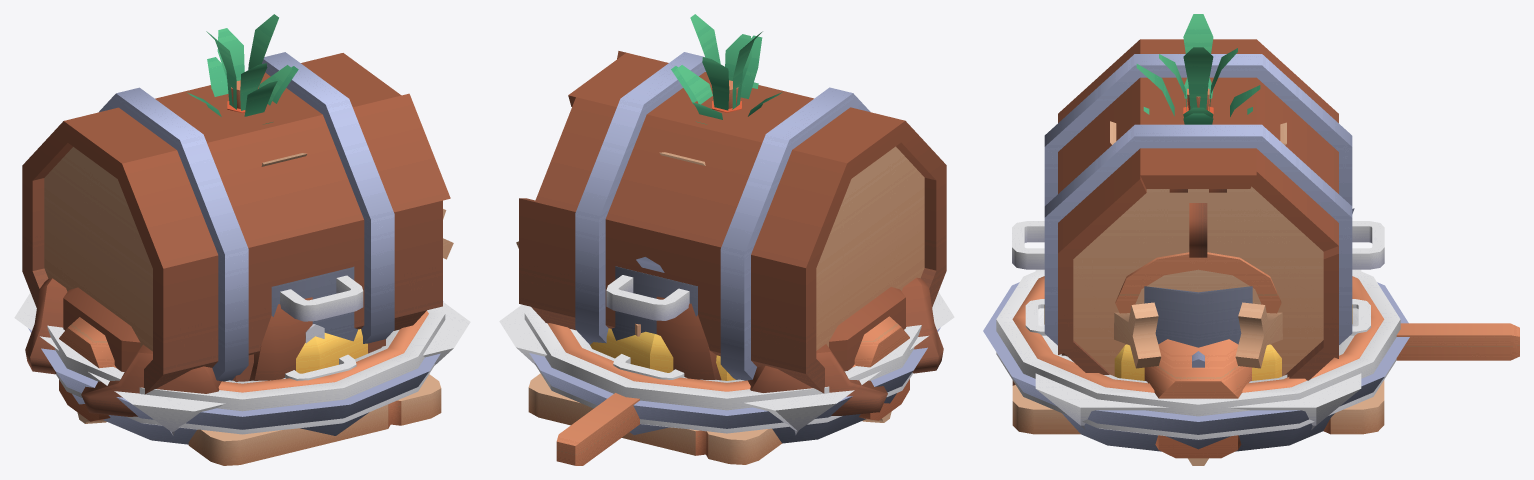
File: food.glb
The picture shows the model from 3 angles, left to right: view 1: azimuth 30°, elevation 25°; view 2: azimuth 150°, elevation 25°; view 3: azimuth 270°, elevation 25°; orthographic projection.
Parts seen in each view (by area): view 1: barrel, pie, turkey, plate-deep, cutting-board, leek, pot-stew, plate-rectangle, leg, loaf-baguette, wedge (×2), piece (+3 smaller); view 2: barrel, pie, turkey, plate-deep, cutting-board, pot-stew, leek, plate-rectangle, frying-pan, leg, wedge (×2), loaf-baguette (+4 smaller); view 3: barrel, pie, plate-deep, pot-stew, loaf-baguette, loaf, frying-pan, leg (×2), plate-rectangle, leek, cutting-board, pan (+4 smaller).
Boxes of the visible parts, x1,y1,x2,y2 form: barrel: [22, 52, 450, 394]; pie: [28, 301, 443, 444]; turkey: [25, 278, 221, 416]; plate-deep: [47, 307, 445, 411]; cutting-board: [188, 374, 441, 465]; leek: [187, 14, 298, 116]; pot-stew: [271, 266, 363, 341]; plate-rectangle: [14, 292, 470, 435]; leg: [249, 209, 453, 380]; loaf-baguette: [59, 317, 114, 421]; wedge (×2): [296, 329, 367, 373]; piece: [185, 409, 367, 434]; barrel: [519, 51, 946, 393]; pie: [529, 323, 940, 443]; turkey: [748, 277, 943, 415]; plate-deep: [524, 306, 921, 410]; cutting-board: [528, 373, 781, 464]; pot-stew: [606, 266, 697, 340]; leek: [671, 14, 782, 119]; plate-rectangle: [499, 292, 954, 434]; frying-pan: [556, 393, 639, 465]; leg: [516, 241, 721, 380]; wedge (×2): [593, 328, 726, 380]; loaf-baguette: [854, 316, 909, 420]; barrel: [1044, 39, 1352, 380]; pie: [983, 276, 1409, 451]; plate-deep: [996, 269, 1400, 416]; pot-stew: [1012, 221, 1384, 347]; loaf-baguette: [1144, 339, 1251, 458]; loaf: [1115, 252, 1281, 313]; frying-pan: [1396, 323, 1519, 360]; leg (×2): [1114, 302, 1282, 368]; plate-rectangle: [1035, 269, 1361, 430]; leek: [1136, 14, 1260, 124]; cutting-board: [1012, 380, 1384, 434]; pan: [1025, 299, 1370, 335].
Bounding box in the file's own units: 0.9504 × 0.9176 × 1.18.
Materials: 2 (1 with a texture image).
